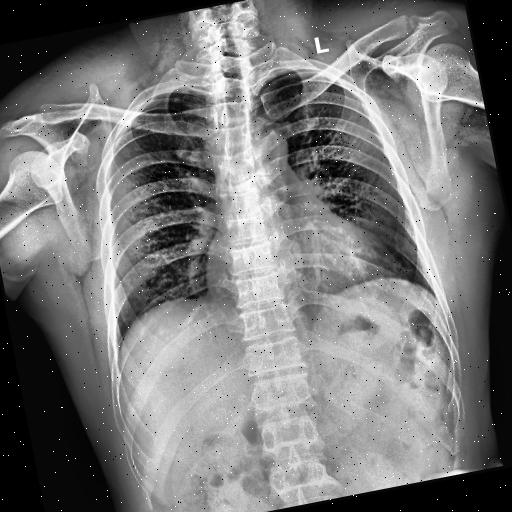0- Aortic enlargement: (236, 122, 294, 180)
3- Cardiomegaly: (199, 216, 401, 334), (197, 210, 401, 318), (197, 214, 401, 316)
